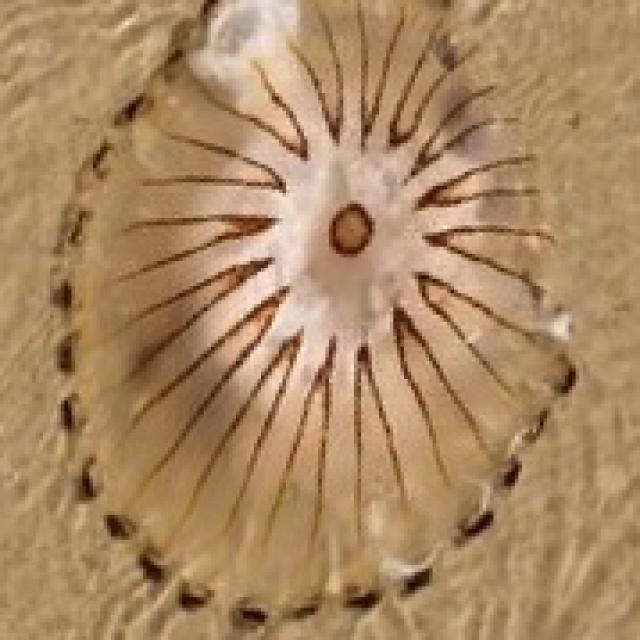Box-jellyfish: (42, 0, 579, 636)
